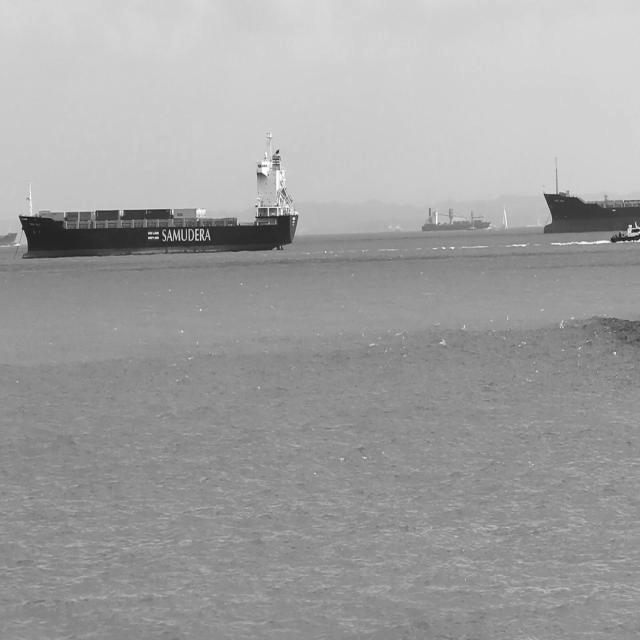ship: (18, 130, 300, 259), (542, 156, 640, 234), (421, 205, 492, 232), (610, 220, 640, 243), (0, 229, 18, 249), (501, 204, 508, 230), (467, 223, 478, 231)
